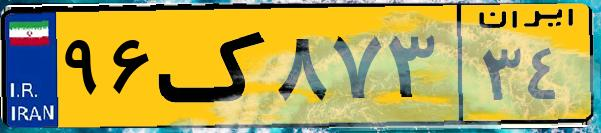3: (385, 28, 445, 110), (475, 38, 525, 113)
4: (525, 38, 570, 115)
6: (110, 28, 158, 98)
7: (330, 28, 385, 110)
8: (270, 28, 330, 110)
9: (57, 26, 110, 100)
ک: (158, 12, 270, 120)
